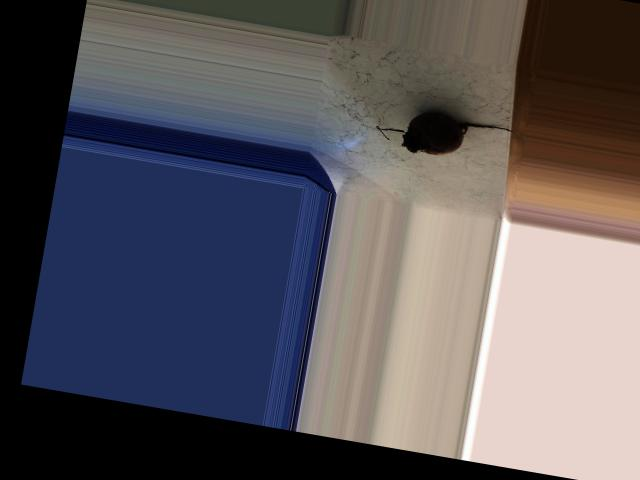beet: (374, 103, 517, 168)
